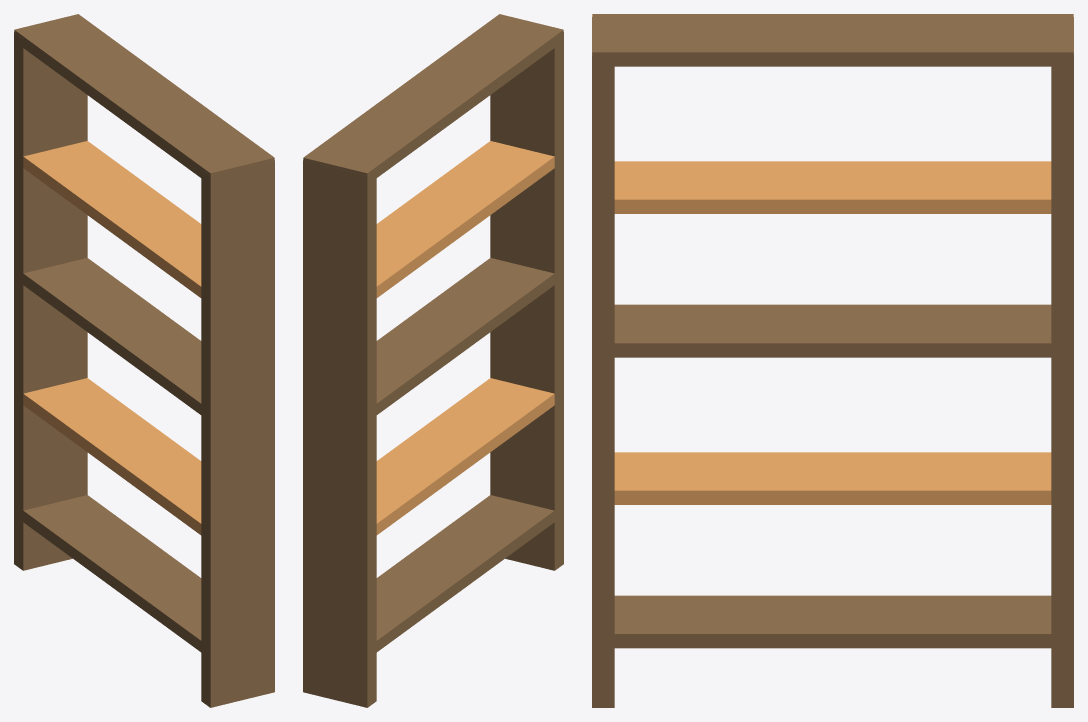
The model's file is Shelf.fbx.
The picture shows the model from 3 angles, left to right: view 1: azimuth 30°, elevation 25°; view 2: azimuth 150°, elevation 25°; view 3: azimuth 270°, elevation 25°; orthographic projection. The views are drawn at different scales.
Parts seen in each view (by area): view 1: Shelf; view 2: Shelf; view 3: Shelf.
Part boxes in pixels (x1,y1,x2,y2): Shelf: [14, 14, 274, 707]; Shelf: [303, 14, 563, 707]; Shelf: [592, 14, 1073, 707].
Size of the model in its own units: 20.1 by 159 by 106.
